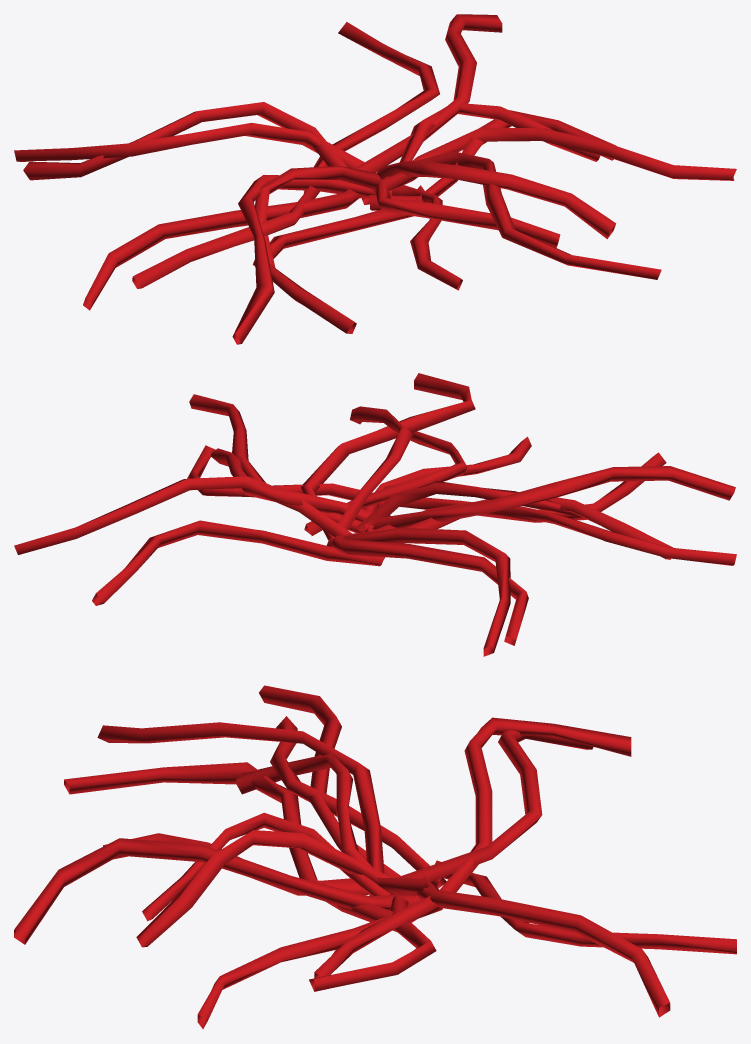
File: FibreTuft.obj
3 views of the same model, one above another, from view 1: azimuth 30°, elevation 25°; view 2: azimuth 150°, elevation 25°; view 3: azimuth 270°, elevation 25° (orthographic). The views are drawn at different scales.
Visible parts, largest first — view 1: FibreRed; view 2: FibreRed; view 3: FibreRed.
Part boxes in pixels (left/top/right/bottom): FibreRed: left=14, top=14, right=736, bottom=344; FibreRed: left=14, top=373, right=736, bottom=656; FibreRed: left=14, top=685, right=736, bottom=1028.
Bounding box in the file's own units: 0.014 × 0.0016 × 0.013.
